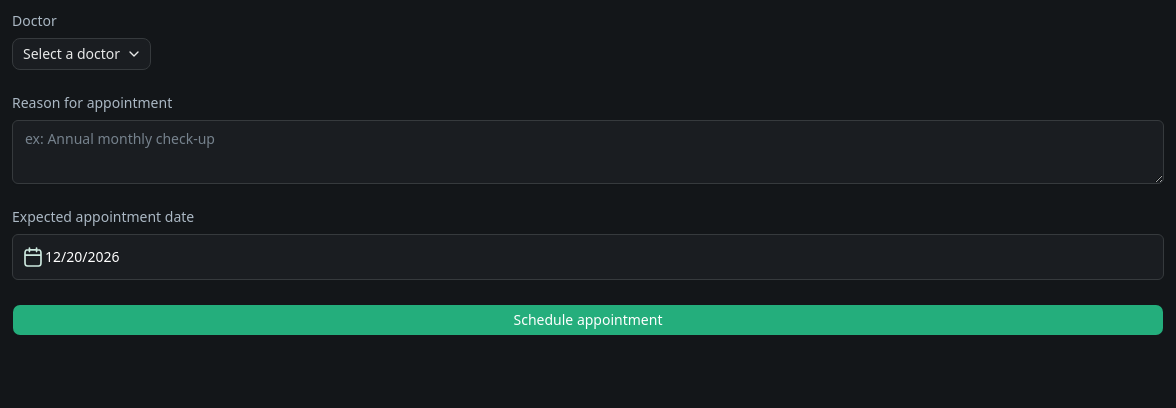
Test case: ScheduleAppointmentForm › shows validation errors and does not update invalid values
Click the button "Schedule appointment": click(588, 320) [12,304,1164,336]
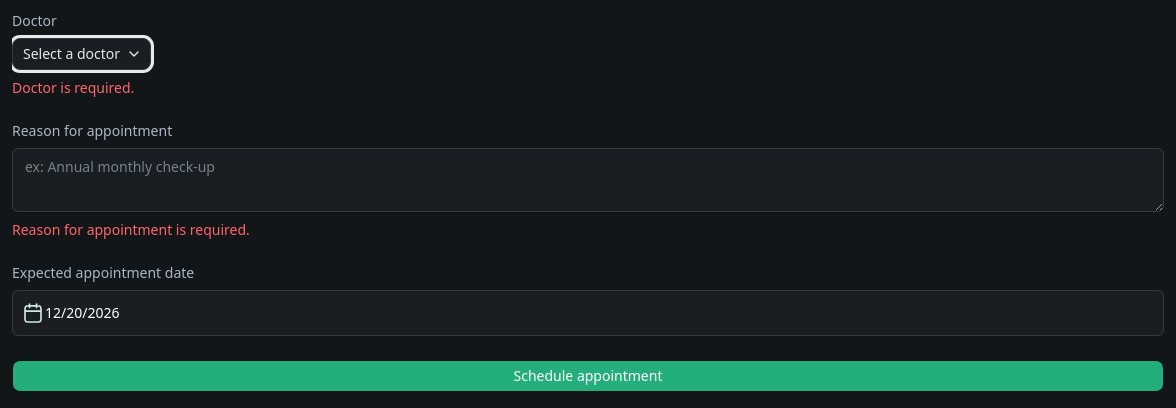
Expected: the text "Doctor is required." is shown, [12,78,134,97]
Expected: the text "Reason for appointment is required." is shown, [12,220,250,239]
